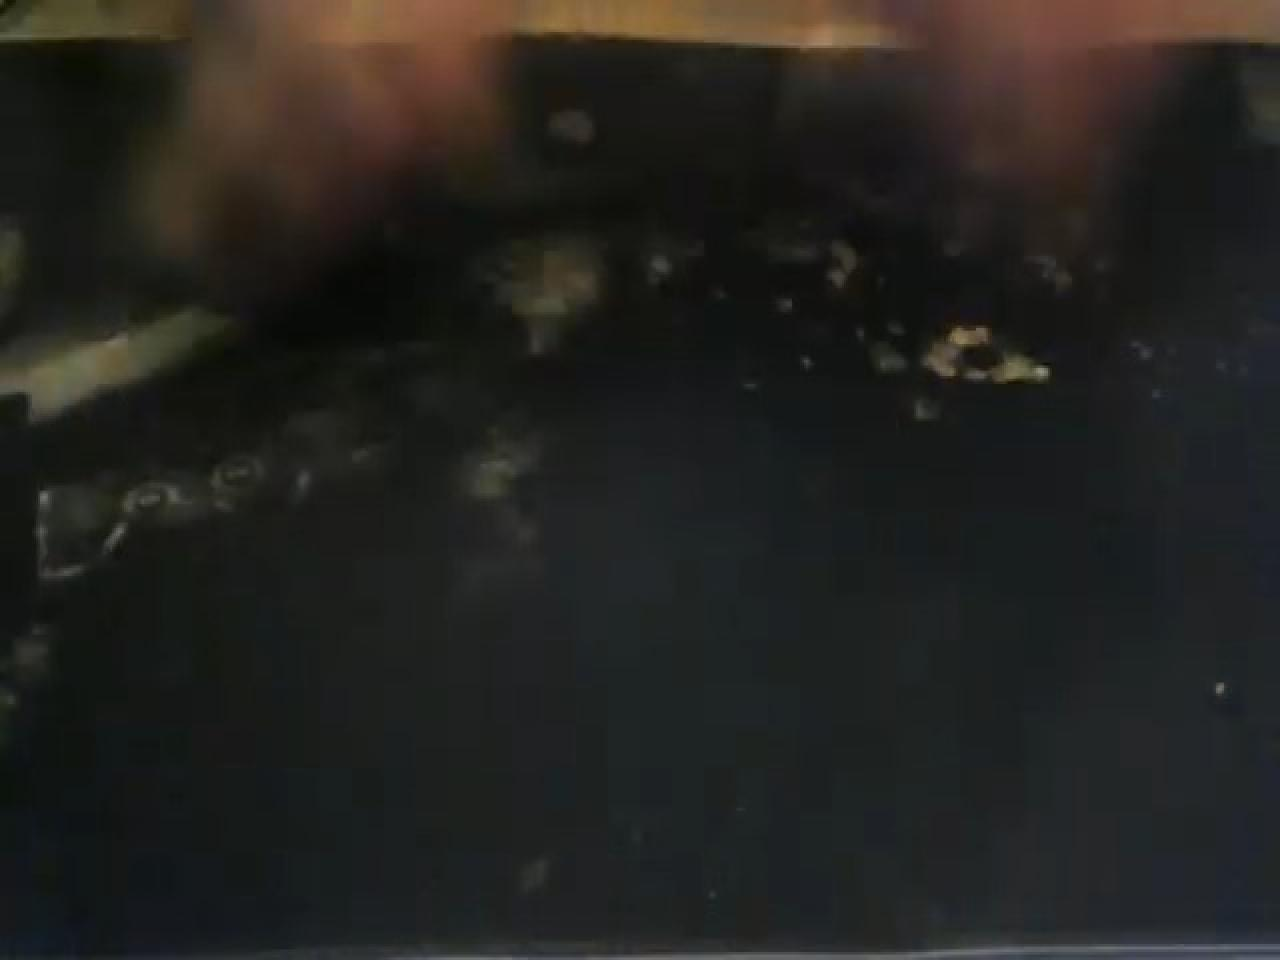10leva: (4, 19, 1274, 952)
